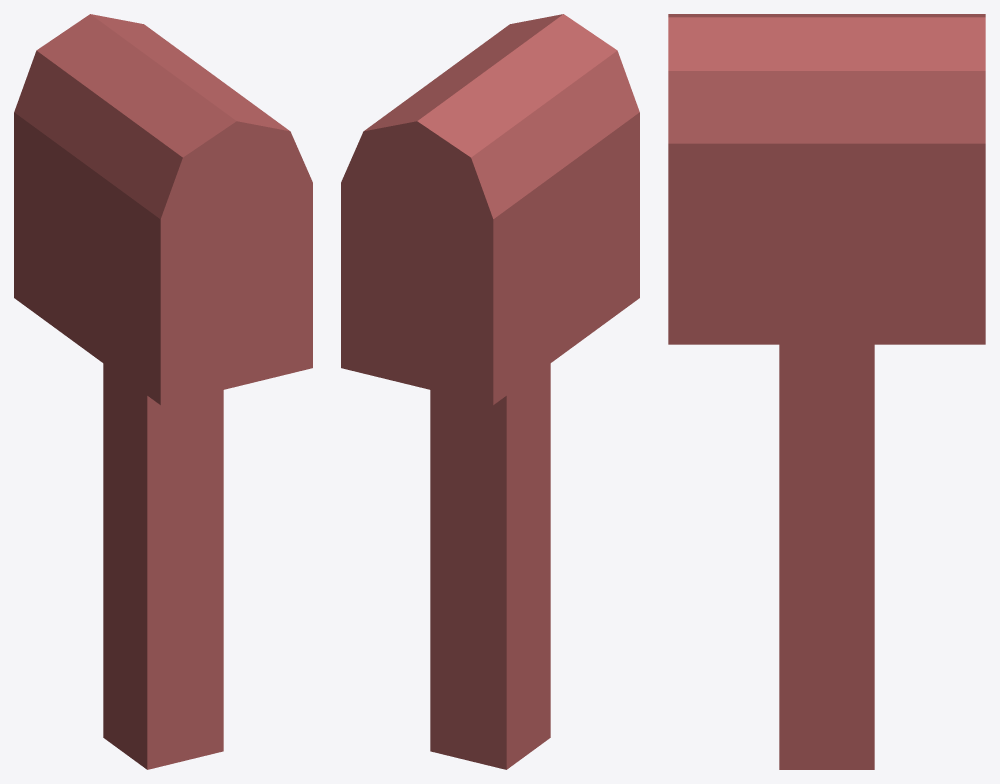
3 renders of one model, left to right at view 1: azimuth 30°, elevation 25°; view 2: azimuth 150°, elevation 25°; view 3: azimuth 270°, elevation 25°, orthographic. The views are drawn at different scales.
Visible parts, largest first — view 1: part1, part0, part2; view 2: part1, part0, part2; view 3: part1, part2, part0.
Boxes of the visible parts, bbox=[...] form: part1: bbox=[14, 112, 312, 405]; part0: bbox=[103, 363, 223, 769]; part2: bbox=[14, 14, 312, 279]; part1: bbox=[341, 112, 639, 405]; part0: bbox=[430, 363, 550, 769]; part2: bbox=[341, 14, 639, 276]; part1: bbox=[668, 143, 985, 344]; part2: bbox=[668, 14, 985, 143]; part0: bbox=[779, 344, 874, 769].
Bounding box in the file's own units: 0.6 × 2.55 × 1.
